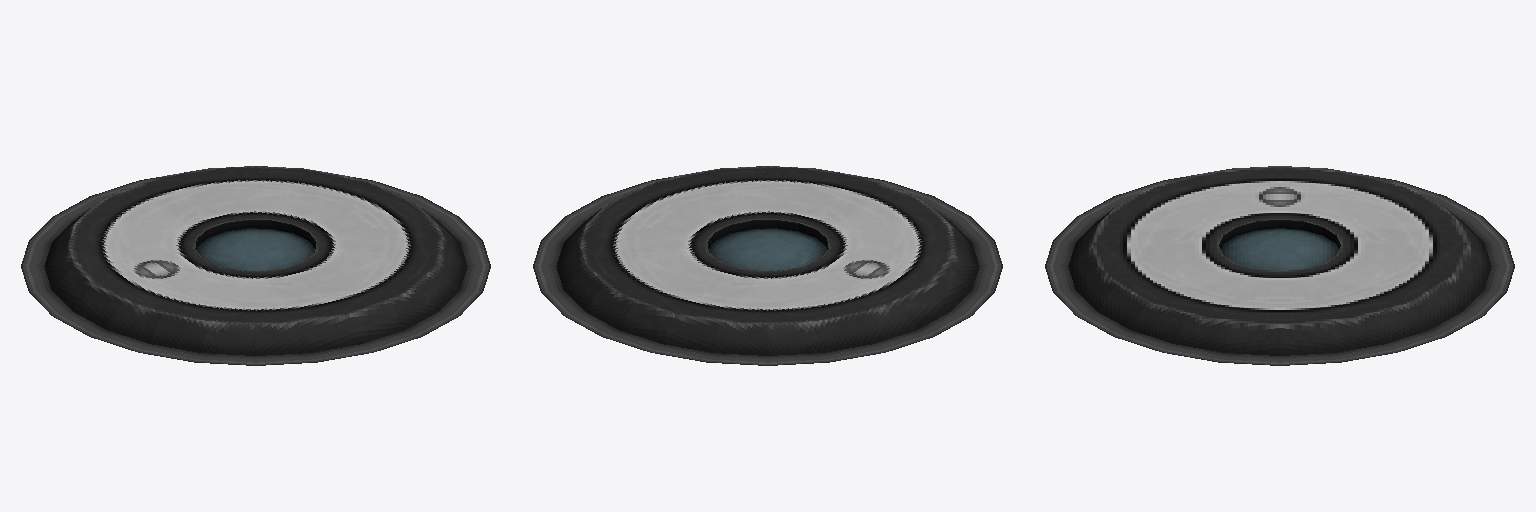
3 renders of one model, left to right at view 1: azimuth 30°, elevation 25°; view 2: azimuth 150°, elevation 25°; view 3: azimuth 270°, elevation 25°, orthographic.
Visible parts, largest first — view 1: end; view 2: end; view 3: end.
Part boxes in pixels (x1,y1,x2,y2): end: (21, 166, 490, 365); end: (533, 166, 1002, 365); end: (1045, 166, 1514, 365).
Size of the model in its own units: 0.625 by 0.0312 by 0.625.
1 materials, 1 textured.